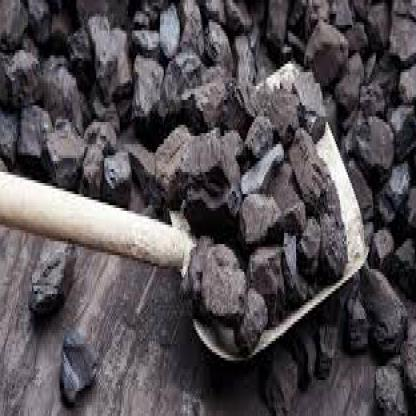Sedimentary_coal: (144, 106, 224, 192), (258, 44, 326, 142), (304, 8, 355, 86), (205, 233, 248, 316), (28, 238, 73, 314), (240, 181, 288, 238), (64, 327, 99, 405), (95, 20, 121, 106), (49, 125, 91, 177), (364, 106, 397, 166), (157, 0, 182, 70), (104, 144, 135, 200), (386, 8, 415, 54)
